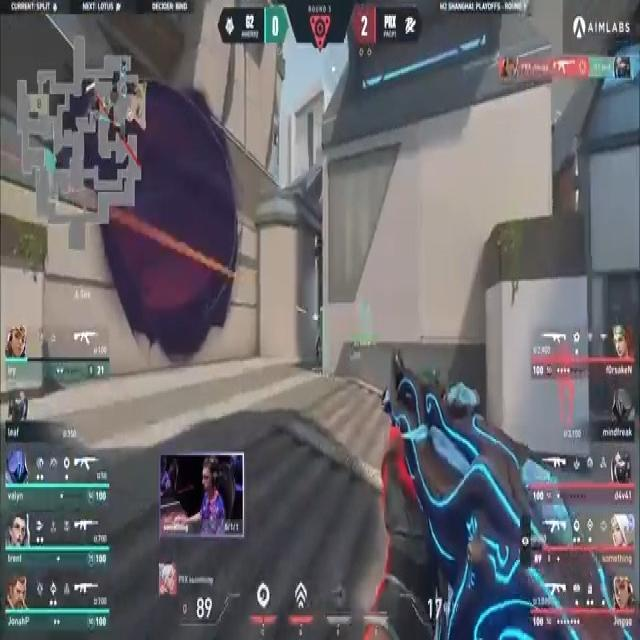ally: (313, 308, 325, 372)
